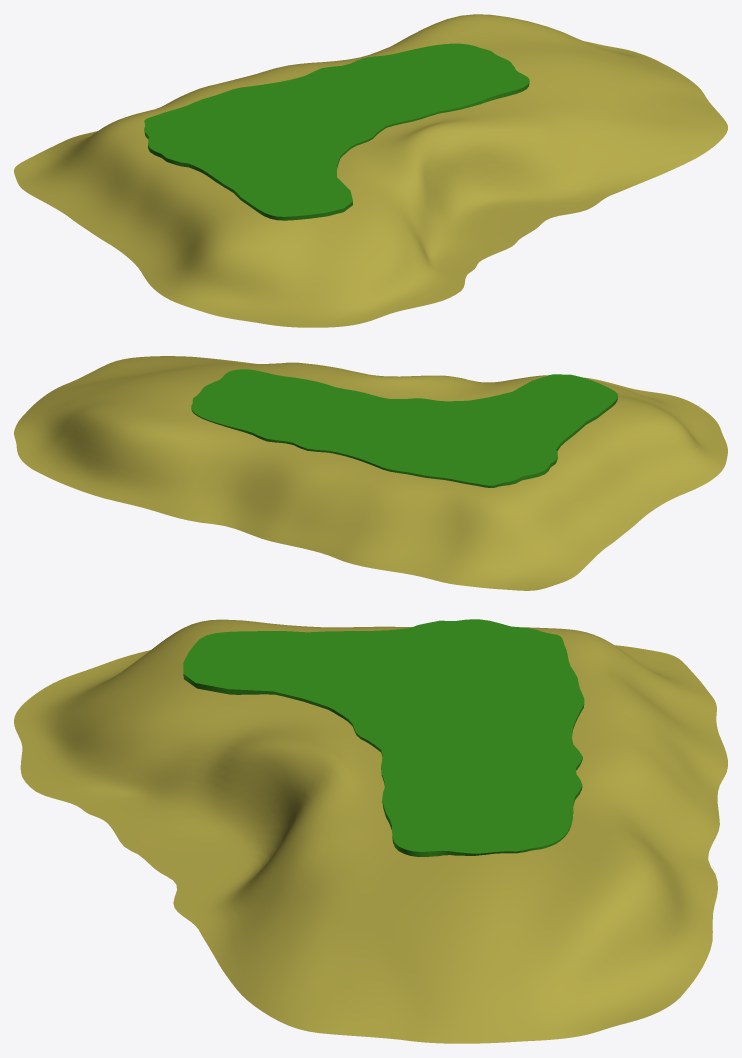
The model's file is ilha pistola.fbx.
The picture shows the model from 3 angles, top to bottom: view 1: azimuth 30°, elevation 25°; view 2: azimuth 150°, elevation 25°; view 3: azimuth 270°, elevation 25°; orthographic projection. The views are drawn at different scales.
Visible parts, largest first — view 1: areia, pistola; view 2: areia, pistola; view 3: areia, pistola.
Boxes of the visible parts, left/top/right/bottom form: areia: left=14, top=14, right=727, bottom=327; pistola: left=144, top=43, right=529, bottom=220; areia: left=14, top=356, right=727, bottom=590; pistola: left=191, top=369, right=617, bottom=487; areia: left=14, top=619, right=727, bottom=1043; pistola: left=183, top=619, right=584, bottom=856.
Size of the model in its own units: 2411 by 228 by 1804.
